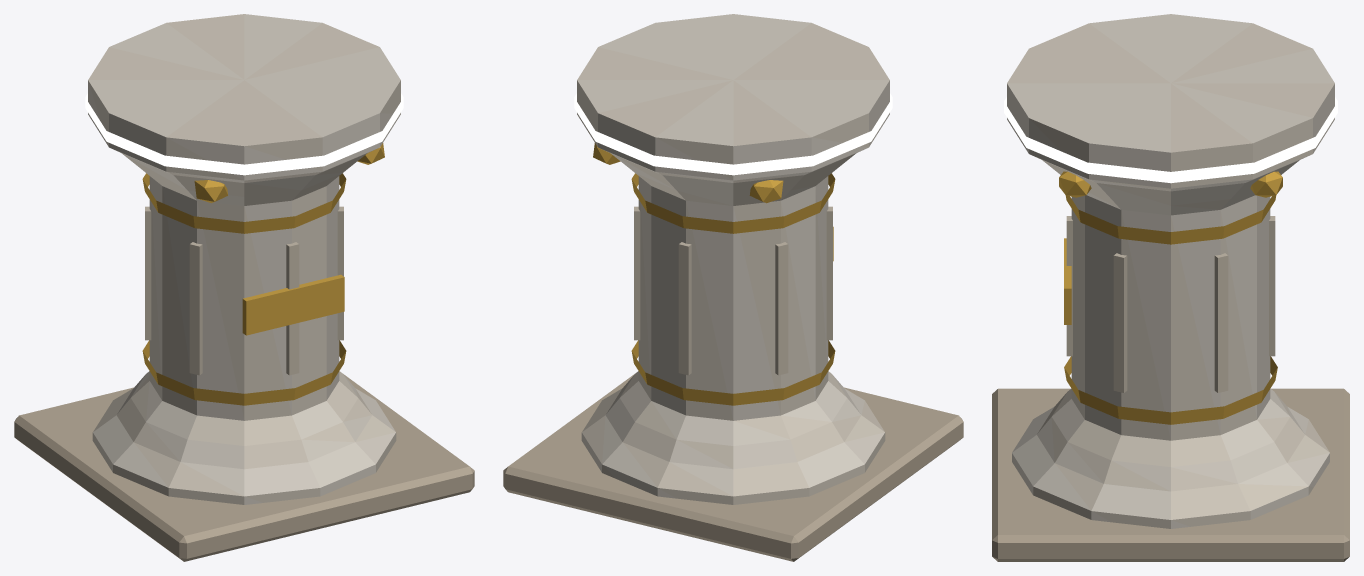
File: kit-paris-pedestal.glb
The picture shows the model from 3 angles, left to right: view 1: azimuth 30°, elevation 25°; view 2: azimuth 150°, elevation 25°; view 3: azimuth 270°, elevation 25°; orthographic projection. The views are drawn at different scales.
Visible parts, largest first — view 1: kit-paris-pedestal; view 2: kit-paris-pedestal; view 3: kit-paris-pedestal.
Part boxes in pixels (x1=…): kit-paris-pedestal: x1=14, y1=14, x2=474, y2=561; kit-paris-pedestal: x1=503, y1=14, x2=963, y2=561; kit-paris-pedestal: x1=992, y1=14, x2=1349, y2=561.
Size of the model in its own units: 0.72 by 0.9 by 0.72.
